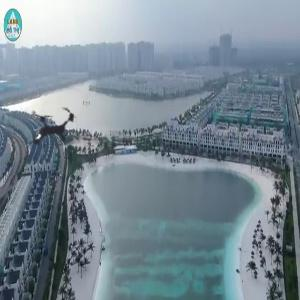drone: (8, 84, 96, 172)
